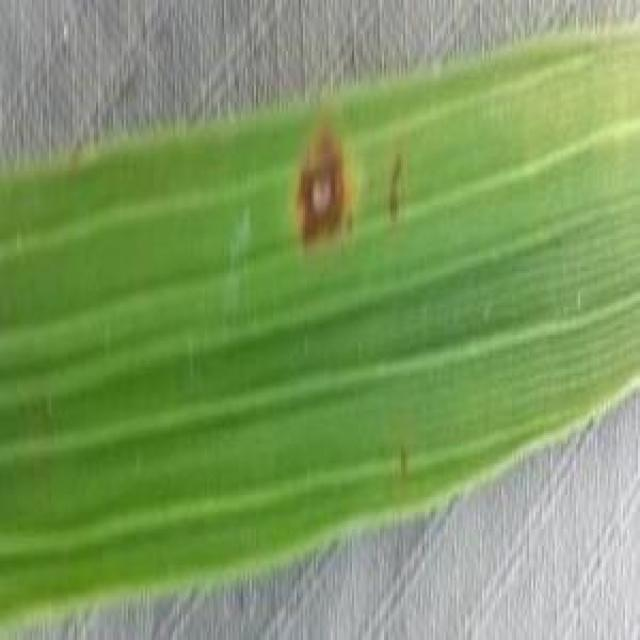Brown_Spot: (294, 134, 362, 238)
